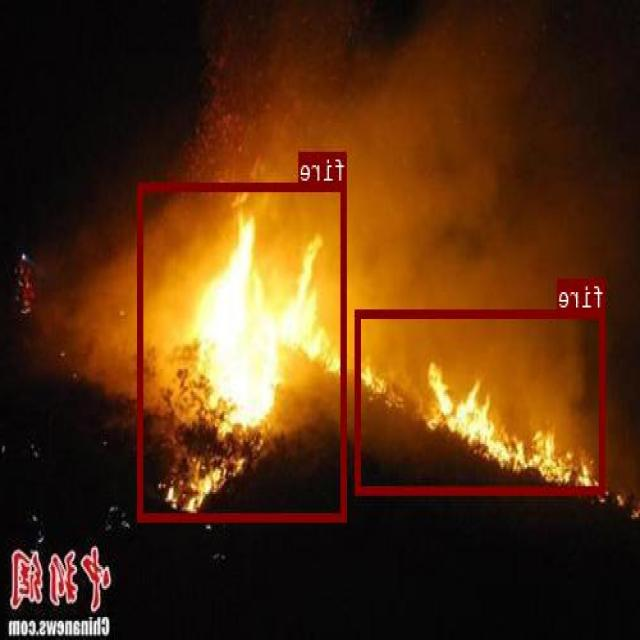fire: (138, 181, 348, 520), (356, 308, 606, 492)
